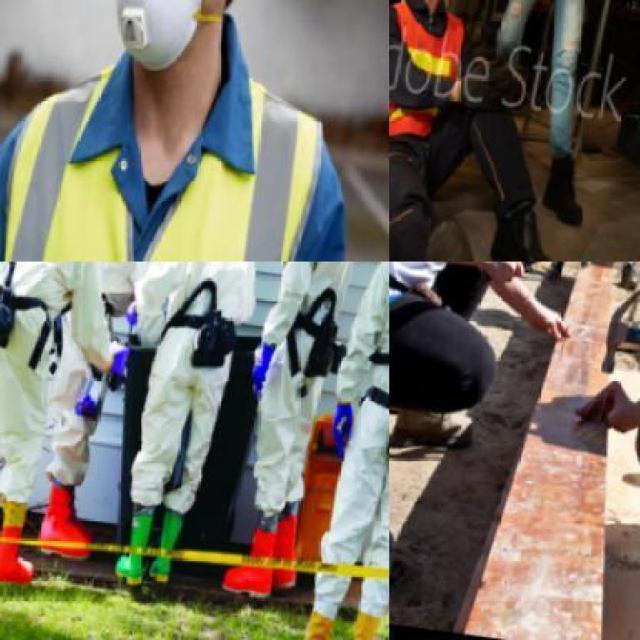Vest: (0, 34, 352, 260), (120, 261, 271, 514), (238, 262, 368, 503), (0, 262, 126, 504), (310, 262, 388, 609), (389, 0, 471, 146)
